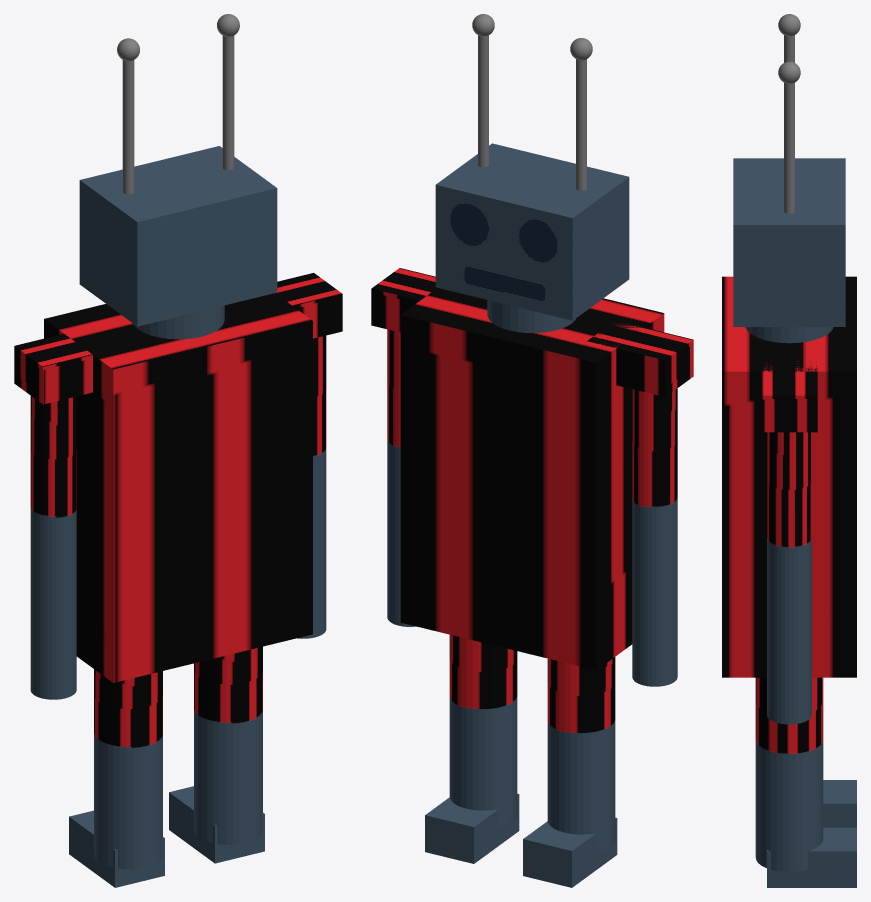
The model's file is robot_1.glb.
The picture shows the model from 3 angles, left to right: view 1: azimuth 30°, elevation 25°; view 2: azimuth 150°, elevation 25°; view 3: azimuth 270°, elevation 25°; orthographic projection. The views are drawn at different scales.
Visible parts, largest first — view 1: Cube.002, Cube.005, Cylinder.003, Cylinder, Cylinder.001, Cube.003, Cylinder.002, Cube.004, Cube.001, Cube, Cylinder.004, Cylinder.005 (+1 smaller); view 2: Cube.002, Cube.005, Cylinder.003, Cylinder, Cylinder.001, Cube.003, Cylinder.002, Cube, Cube.001, Cube.004, Cylinder.004, Cylinder.005 (+1 smaller); view 3: Cube.002, Cube.005, Cylinder.002, Cylinder.001, Cube.004, Cube.001, Cube, Cylinder.006, Cylinder.004, Sphere, Sphere.001.
Boxes of the visible parts, x1,y1,x2,y2 form: Cube.002: (44, 293, 312, 682); Cube.005: (79, 146, 277, 326); Cylinder.003: (30, 396, 76, 699); Cylinder: (94, 669, 162, 869); Cylinder.001: (194, 646, 262, 844); Cube.003: (14, 334, 92, 404); Cylinder.002: (297, 335, 326, 638); Cube.004: (275, 273, 342, 338); Cube.001: (169, 786, 264, 863); Cube: (69, 810, 164, 887); Cylinder.004: (134, 305, 224, 339); Cylinder.005: (122, 60, 134, 194); Cube.002: (400, 288, 664, 670); Cube.005: (435, 143, 629, 320); Cylinder.003: (632, 388, 677, 686); Cylinder: (547, 657, 615, 851); Cylinder.001: (449, 634, 517, 827); Cube.003: (587, 323, 693, 396); Cylinder.002: (387, 329, 415, 626); Cube: (523, 817, 617, 887); Cube.001: (425, 793, 519, 863); Cube.004: (371, 268, 437, 332); Cylinder.004: (487, 300, 575, 333); Cylinder.005: (576, 59, 586, 190); Cube.002: (722, 276, 856, 677); Cube.005: (733, 158, 845, 326); Cylinder.002: (767, 432, 811, 724); Cylinder.001: (755, 677, 823, 871); Cube.004: (761, 361, 817, 432); Cube.001: (767, 827, 856, 887); Cube: (823, 780, 856, 827); Cylinder.006: (784, 82, 794, 213); Cylinder.004: (745, 327, 833, 343); Sphere: (778, 14, 800, 36); Sphere.001: (778, 61, 800, 83).
Bounding box in the file's own units: 3 × 7.98 × 1.2.
5 materials, 5 textured.
